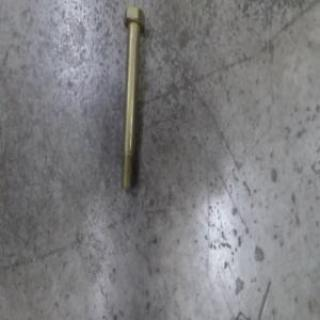Bolttrack_idkeyframe: (118, 4, 145, 192)
